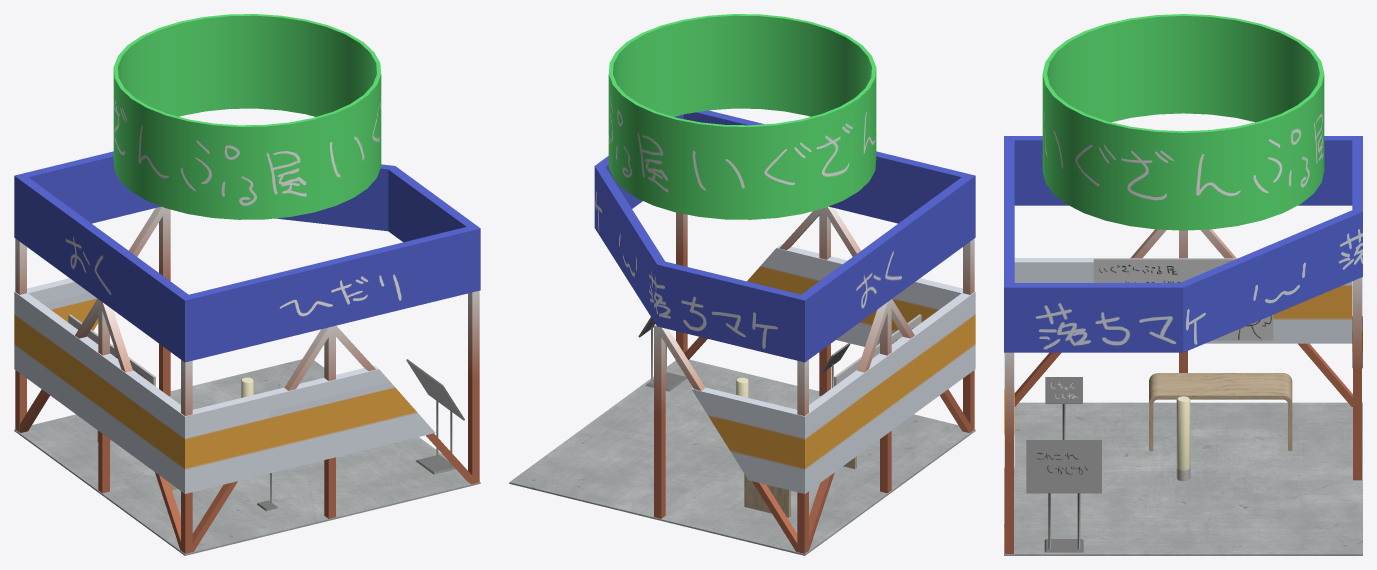
Rendered from standard.glb.
3 views of the same model, side by side, from view 1: azimuth 30°, elevation 25°; view 2: azimuth 150°, elevation 25°; view 3: azimuth 270°, elevation 25° (orthographic). The views are drawn at different scales.
Visible parts, largest first — view 1: OchiKet_Booth_NeutralIndustry, OchiKet_Booth_TopCylinder, OchiKet_Booth_PopStand; view 2: OchiKet_Booth_NeutralIndustry, OchiKet_Booth_TopCylinder, OchiKet_Booth_Desk, OchiKet_Booth_PopStand; view 3: OchiKet_Booth_NeutralIndustry, OchiKet_Booth_TopCylinder, OchiKet_Booth_PopStand, OchiKet_Booth_Desk, OchiKet_Booth_BarLight, OchiKet_Booth_PopStandMini.
Part boxes in pixels (x1,y1,x2,y2): OchiKet_Booth_NeutralIndustry: (14,151,480,555); OchiKet_Booth_TopCylinder: (113,14,381,219); OchiKet_Booth_PopStand: (406,359,464,474); OchiKet_Booth_NeutralIndustry: (509,110,975,555); OchiKet_Booth_TopCylinder: (608,14,876,219); OchiKet_Booth_Desk: (744,456,856,517); OchiKet_Booth_PopStand: (638,317,686,391); OchiKet_Booth_NeutralIndustry: (1004,136,1362,555); OchiKet_Booth_TopCylinder: (1042,14,1324,230); OchiKet_Booth_PopStand: (1026,440,1101,552); OchiKet_Booth_Desk: (1149,373,1292,450); OchiKet_Booth_BarLight: (1176,396,1190,481); OchiKet_Booth_PopStandMini: (1045,377,1082,439).
Bounding box in the file's own units: 4 × 5.08 × 4.
7 materials, 6 textured.
